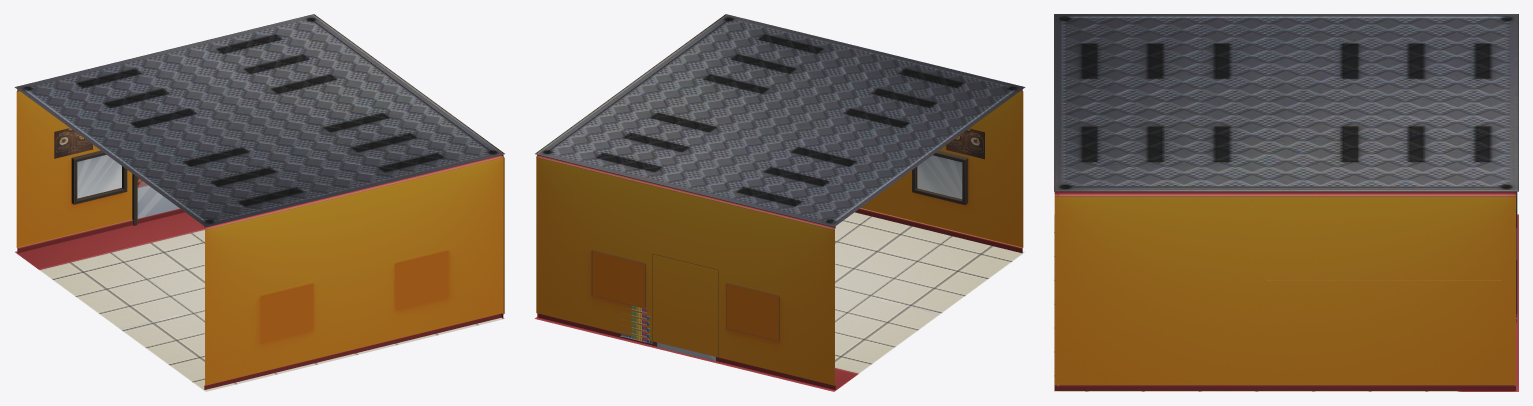
Rendered from BianLiDian_01.FBX.
3 views of the same model, side by side, from view 1: azimuth 30°, elevation 25°; view 2: azimuth 150°, elevation 25°; view 3: azimuth 270°, elevation 25° (orthographic). The views are drawn at different scales.
Visible parts, largest first — view 1: BianLiDian_01_qiangbi_01, fangding, BianLiDian_01_haibao_02; view 2: BianLiDian_01_qiangbi_01, fangding, BianLiDian_01_haibao_02; view 3: BianLiDian_01_qiangbi_01, fangding.
Part boxes in pixels (box(x1,y1,x2,y2)): BianLiDian_01_qiangbi_01: box(15, 89, 505, 391); fangding: box(14, 14, 504, 226); BianLiDian_01_haibao_02: box(54, 128, 92, 158); BianLiDian_01_qiangbi_01: box(534, 89, 1024, 391); fangding: box(535, 14, 1025, 226); BianLiDian_01_haibao_02: box(946, 128, 984, 159); BianLiDian_01_qiangbi_01: box(1054, 191, 1518, 391); fangding: box(1054, 14, 1518, 191).
Size of the model in its own units: 3244 by 1708 by 3586.
